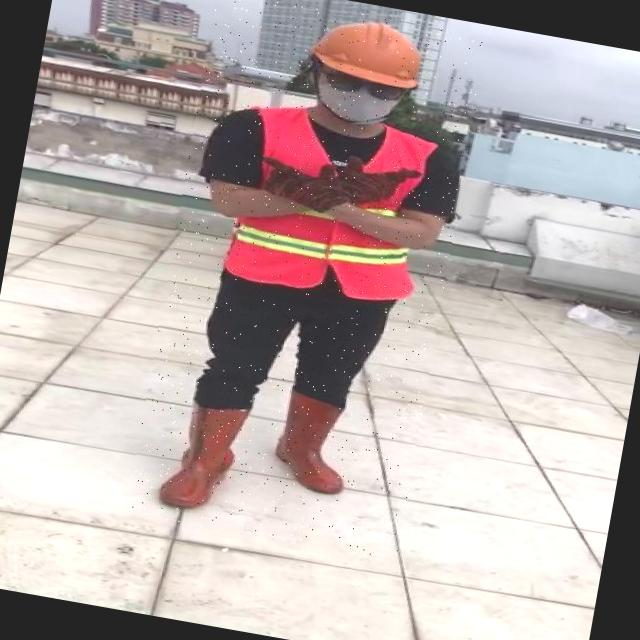boots: (159, 406, 248, 508), (275, 390, 342, 494)
gloves: (329, 148, 426, 218), (252, 148, 337, 216)
